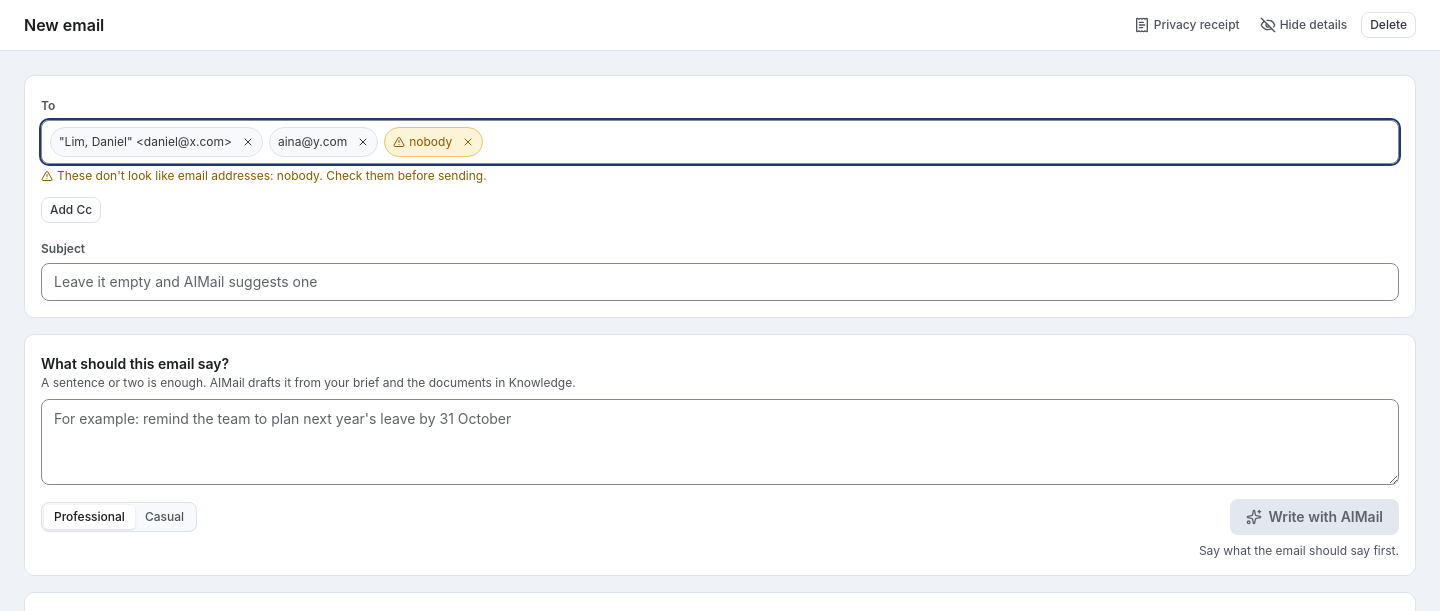
it: pasting several addresses makes one chip each, quoted names kept whole
Expected: the text box labelled "What should this email say?" is shown, [41, 399, 1399, 485]
Expected: the text "\"Lim, Daniel\" <daniel@x.com>" is shown, [59, 134, 232, 150]
Click the button named "Remove nobody".
click(468, 142)  # box [456, 130, 480, 154]
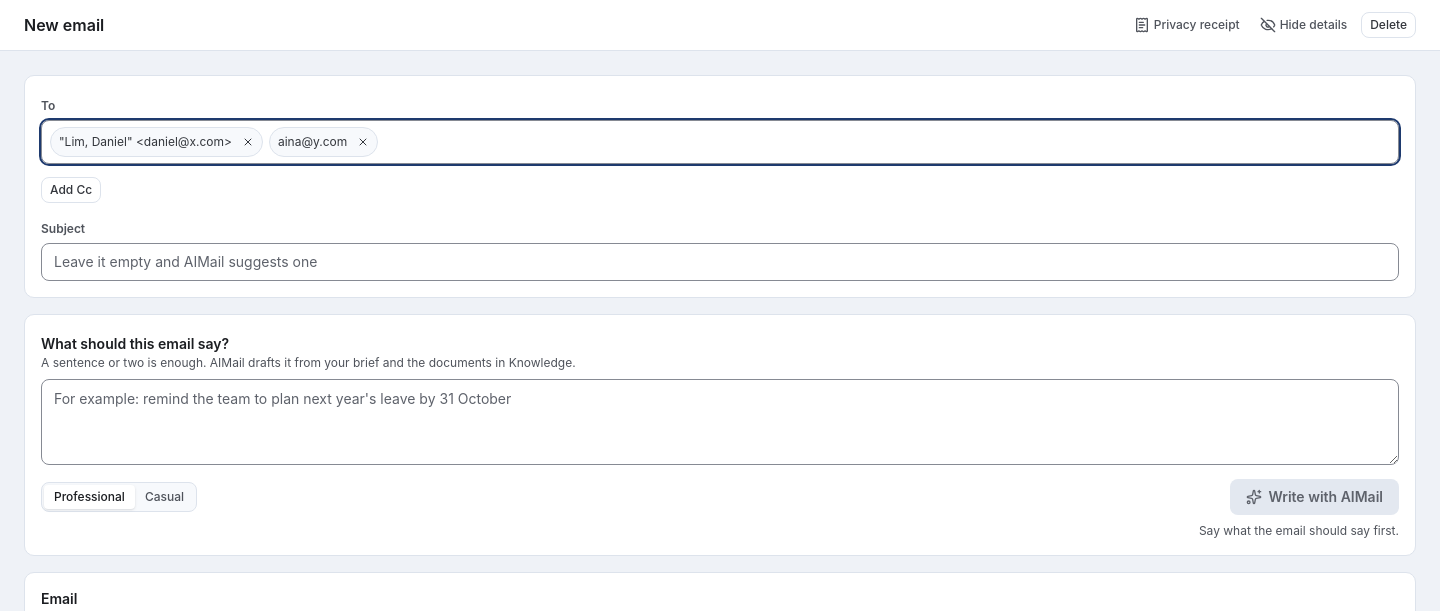
Expected: the text "nobody" is gone
